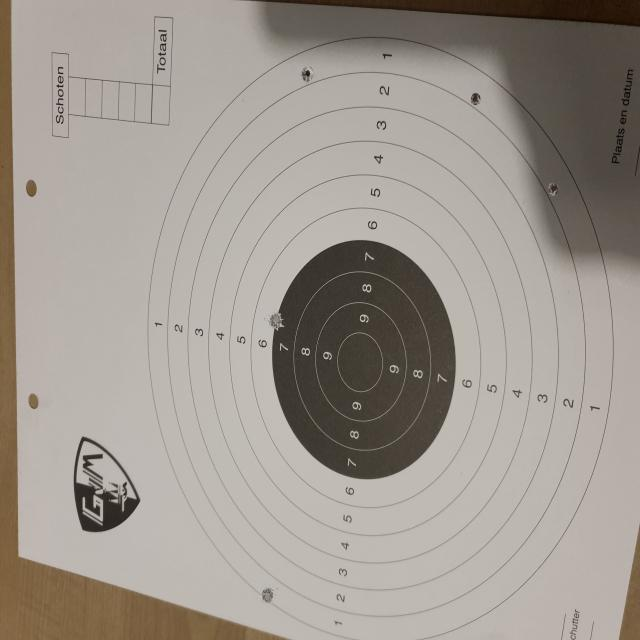1: (257, 585, 279, 606), (299, 63, 315, 86), (548, 182, 559, 197), (470, 92, 481, 106)
7: (264, 310, 284, 332)
Target: (148, 36, 614, 636)
black_contour: (273, 240, 456, 480)
